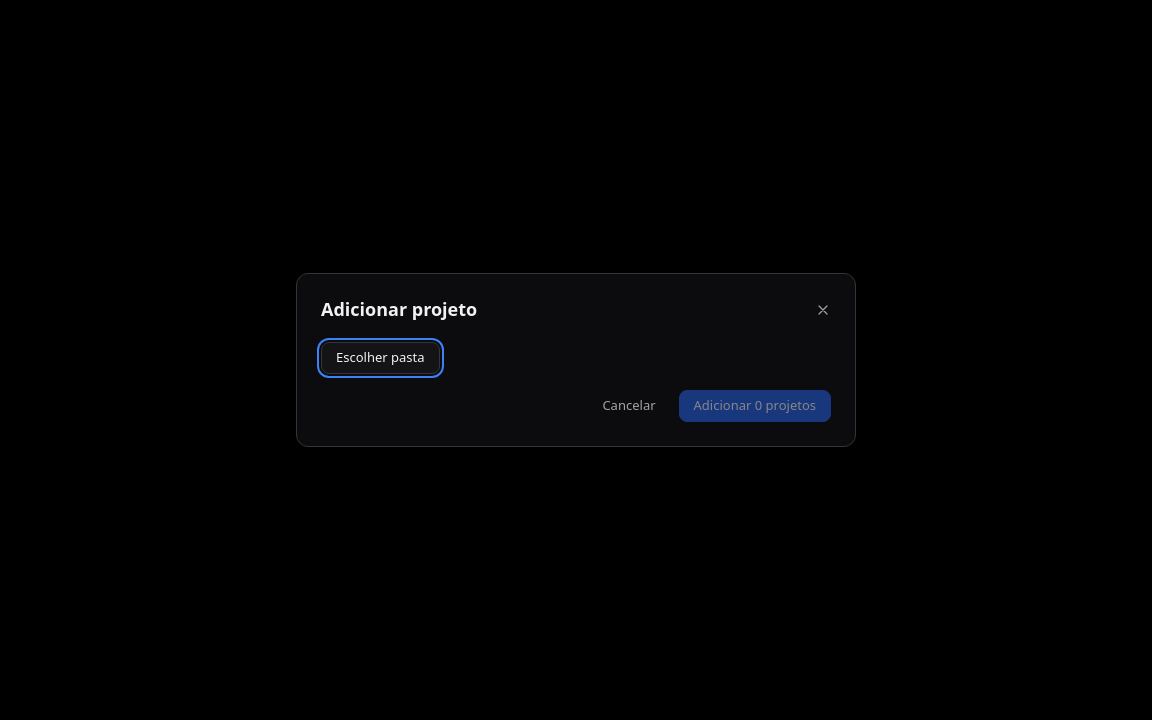
Test: AddProjectDialog › busca parcial avisa que a pasta é grande demais
Click the button "Escolher pasta".
click(380, 358)  # box [321,342,440,374]
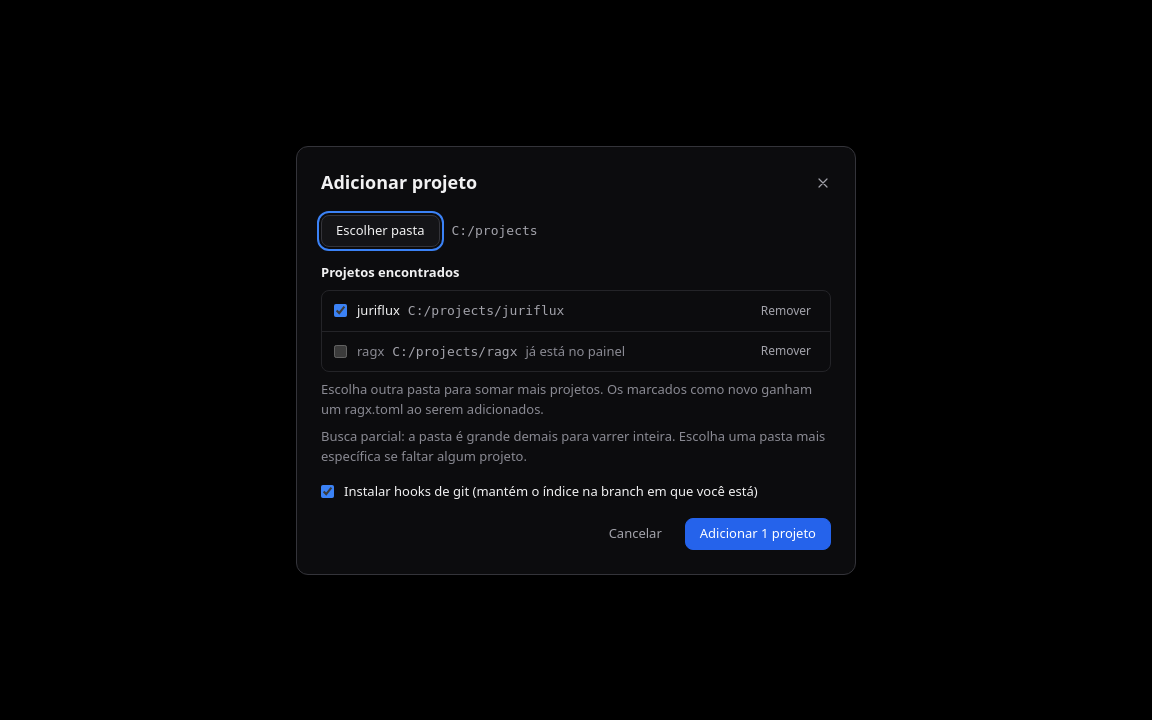
Check: the text "C:/projects" is shown, box [452,221,538,240]
Check: the text "Busca parcial: a pasta é grande demais para varrer inteira. Escolha uma pasta mais específica se faltar algum projeto." is shown, box [321,427,825,464]
